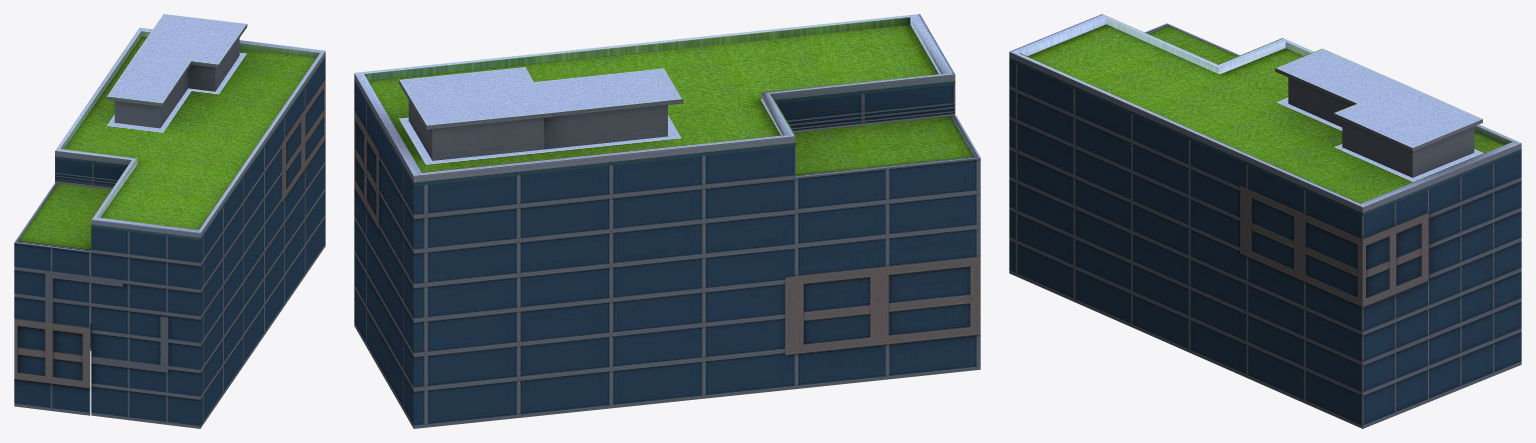
The picture shows the model from 3 angles, left to right: view 1: azimuth 30°, elevation 25°; view 2: azimuth 150°, elevation 25°; view 3: azimuth 270°, elevation 25°; orthographic projection. The views are drawn at different scales.
Visible parts, largest first — view 1: MainBuilding; view 2: MainBuilding; view 3: MainBuilding.
Part boxes in pixels (x1=…): MainBuilding: x1=14, y1=14, x2=325, y2=428; MainBuilding: x1=354, y1=14, x2=980, y2=428; MainBuilding: x1=1009, y1=14, x2=1521, y2=428.
Bounding box in the file's own units: 7.52 × 3.98 × 7.41.
Materials: 1 (1 with a texture image).
